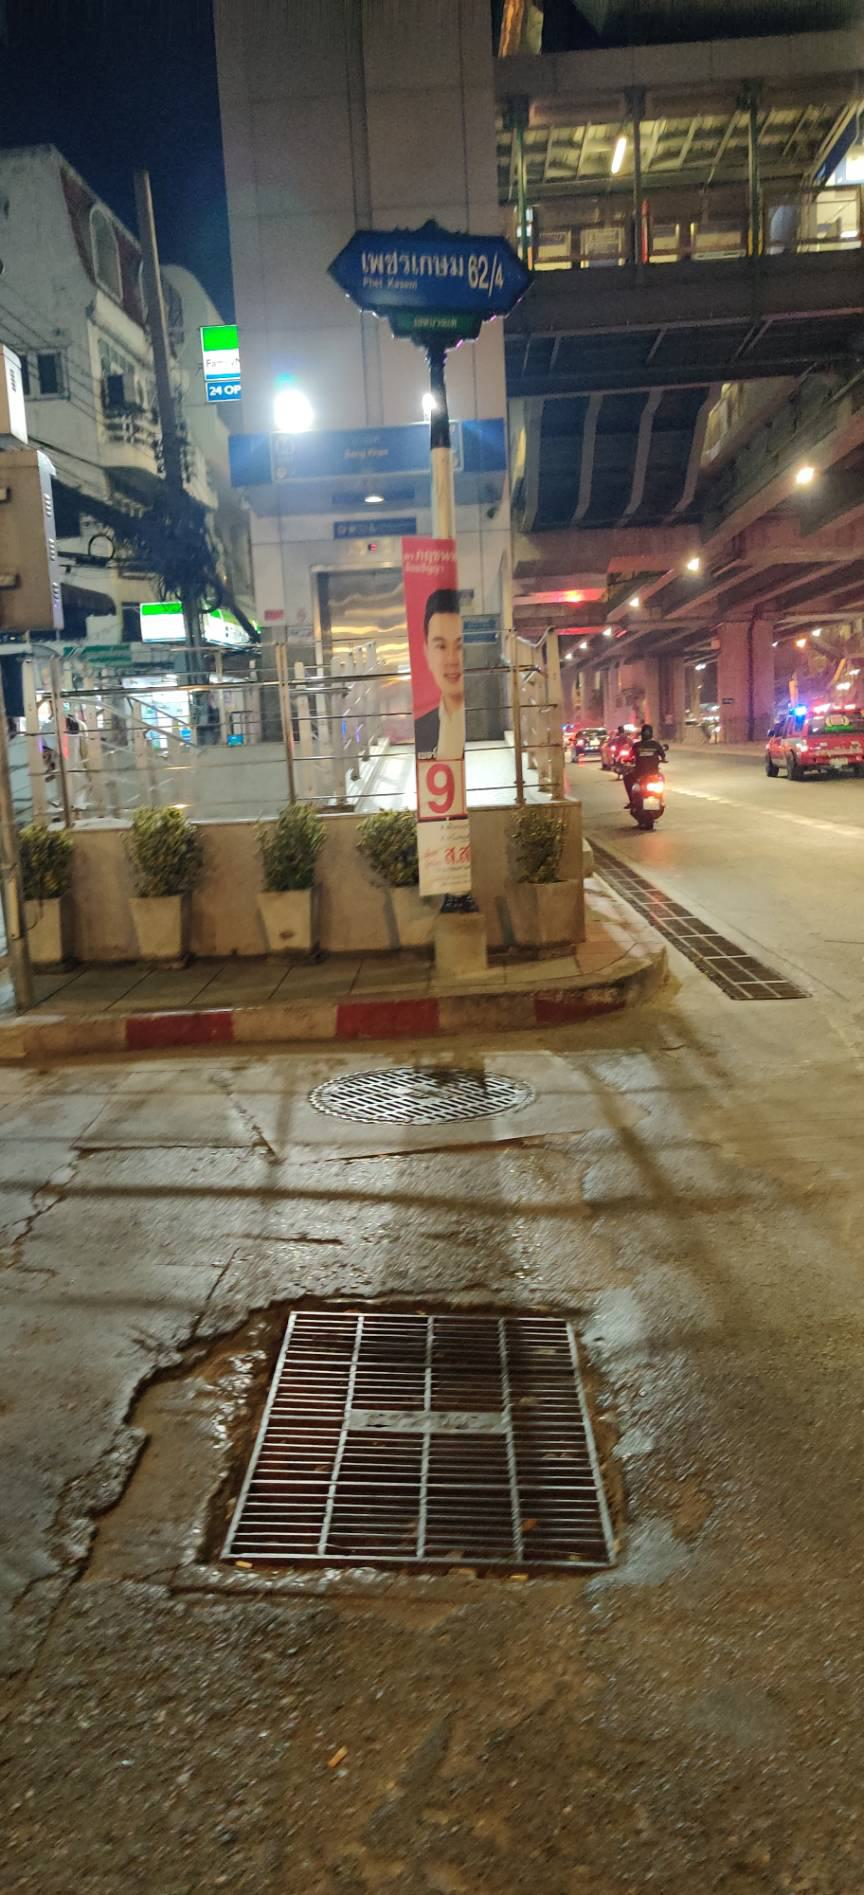Banner: (405, 541, 495, 903)
